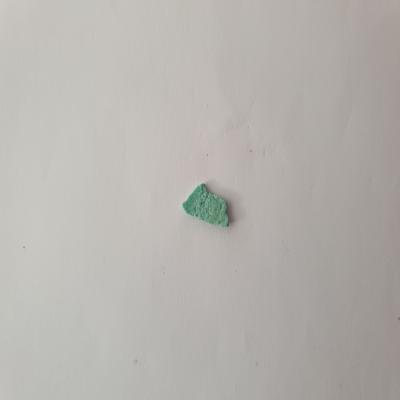plastic: (179, 180, 241, 235)
